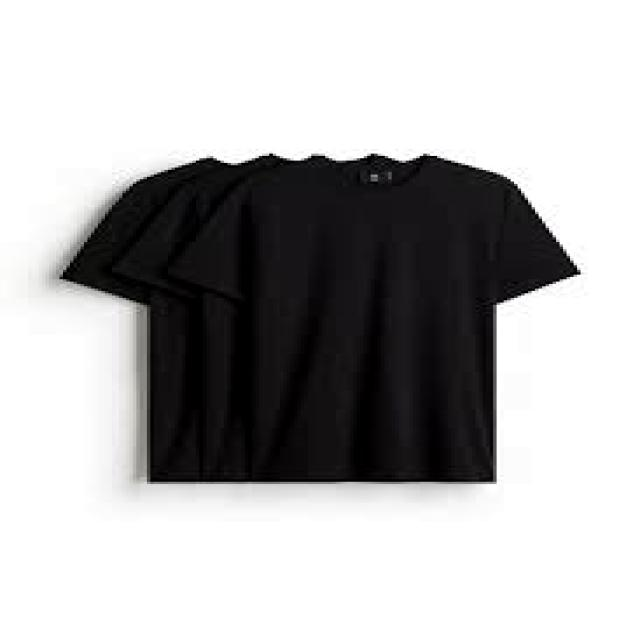top-wear: (62, 143, 580, 484)
